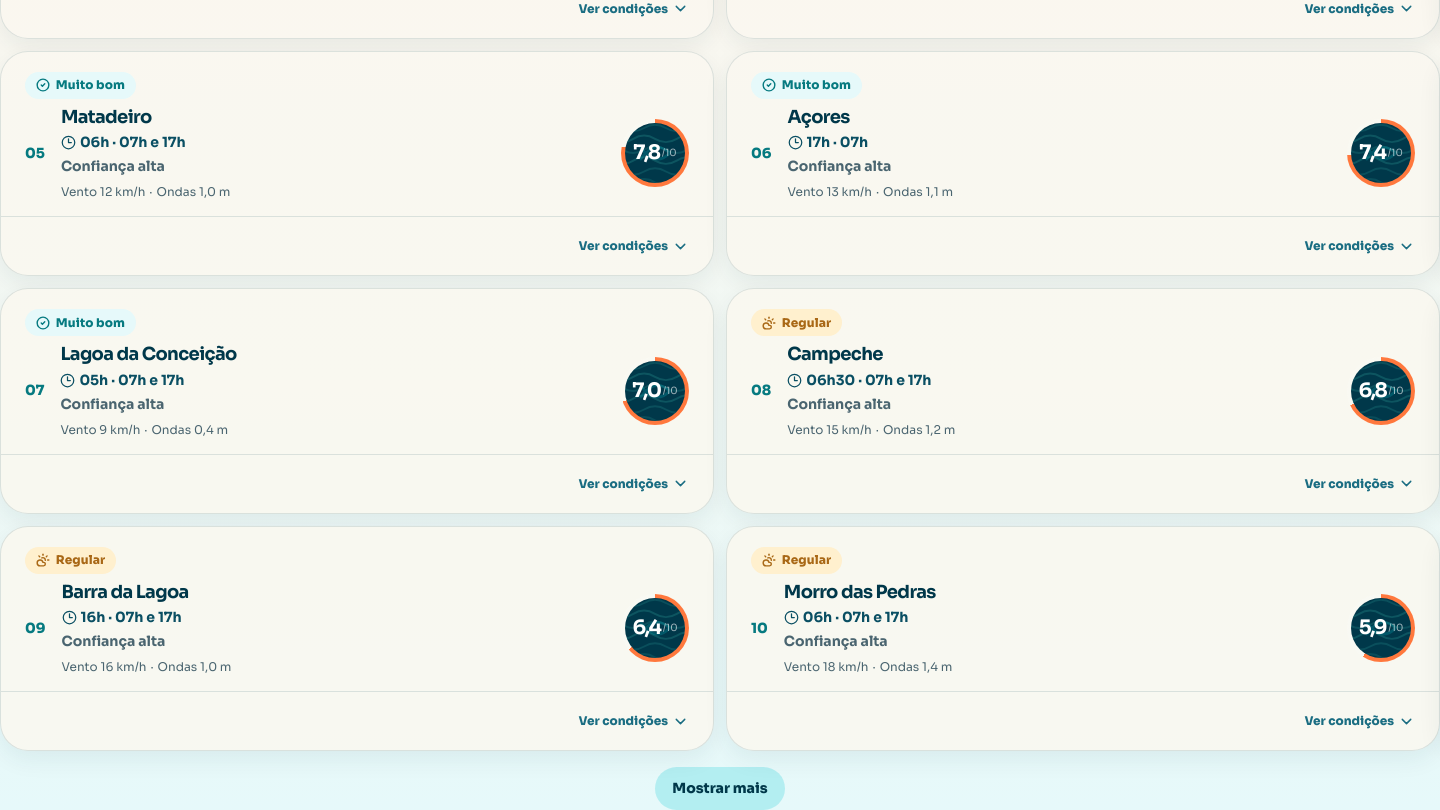
Test case: RankingPage › mostra no máximo 10 locais e revela o restante com Mostrar mais
(page scrolled)
Check: the heading "Joaquina" is not shown
Check: the heading "Solidão" is not shown
Click the button "Mostrar mais": {"x": 720, "y": 788} [655, 767, 785, 809]
(page scrolled)
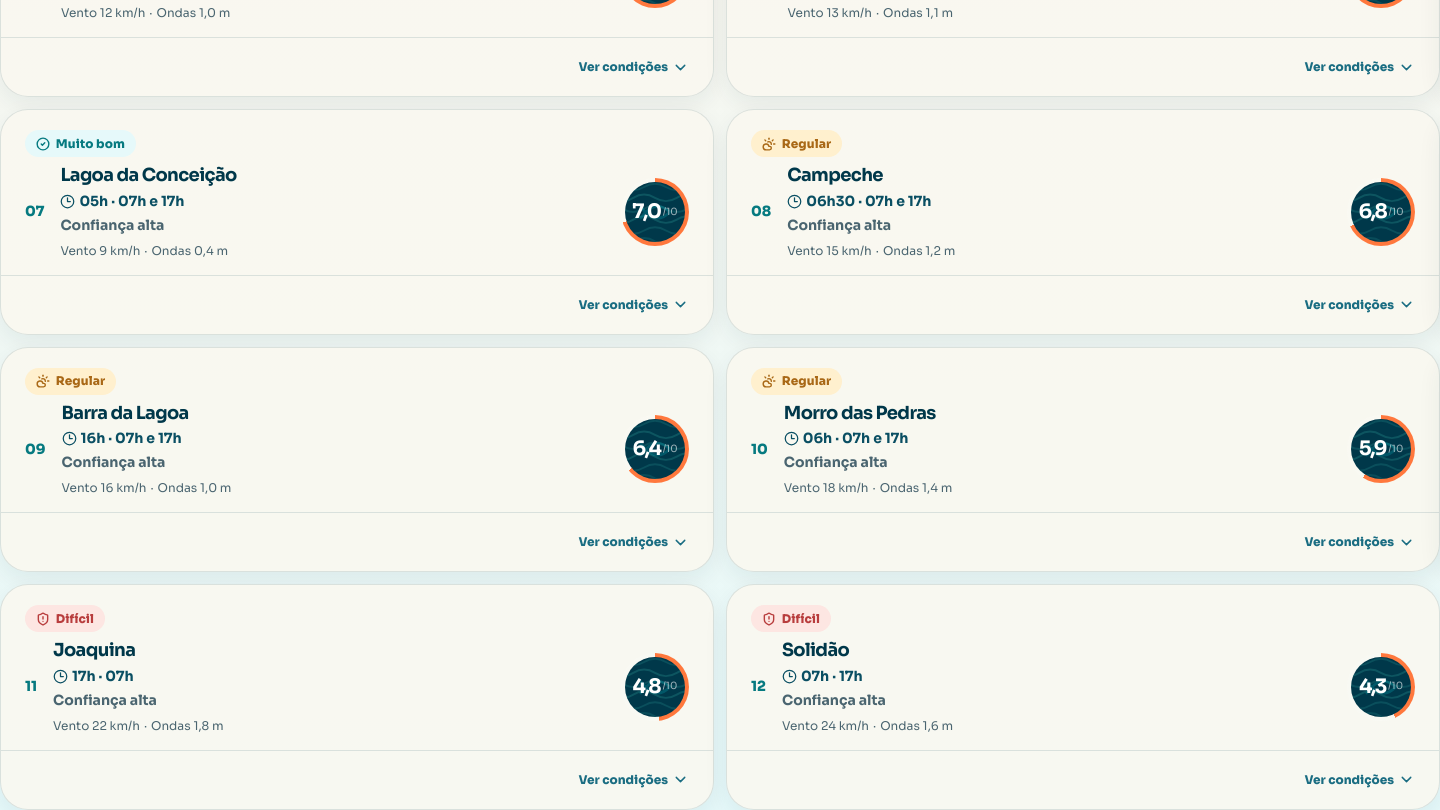
Check: the heading "Joaquina" is shown, box [53, 639, 135, 661]
Check: the heading "Solidão" is shown, box [782, 639, 849, 661]
Check: the button "Mostrar mais" is gone
